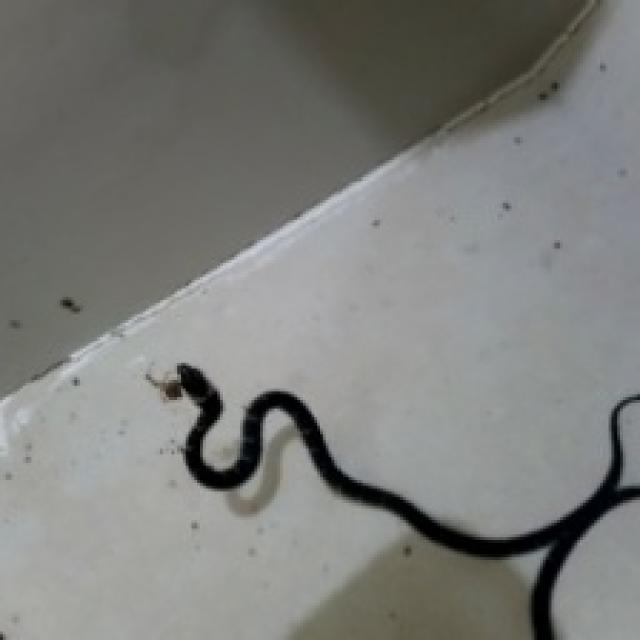gunthers philippine shrub snake: (174, 363, 637, 637)
